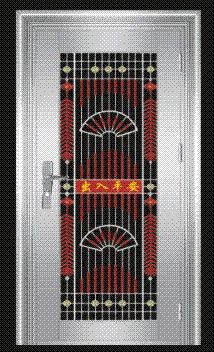door: (21, 20, 188, 344)
